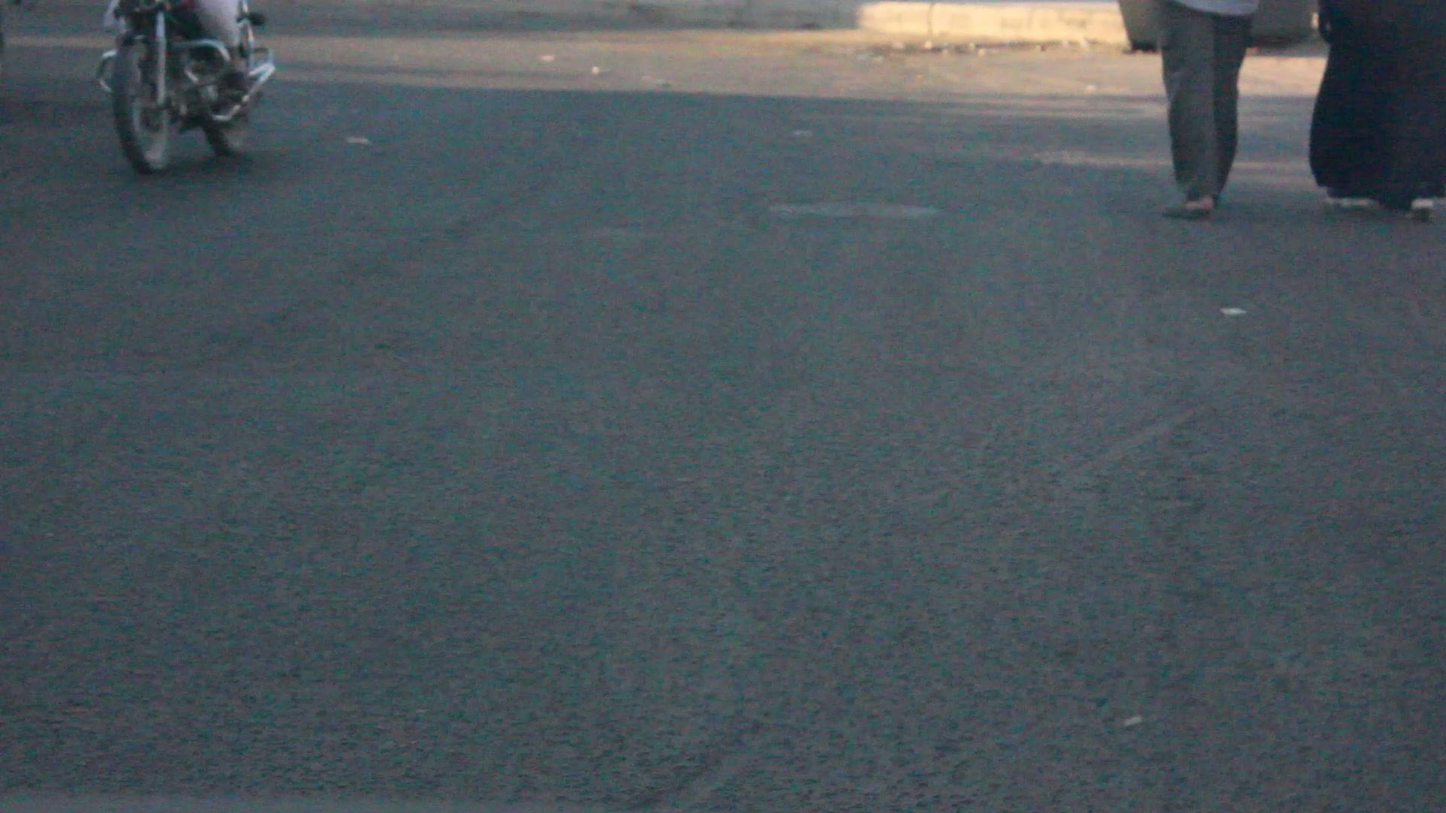Bump: (19, 380, 1446, 565)
